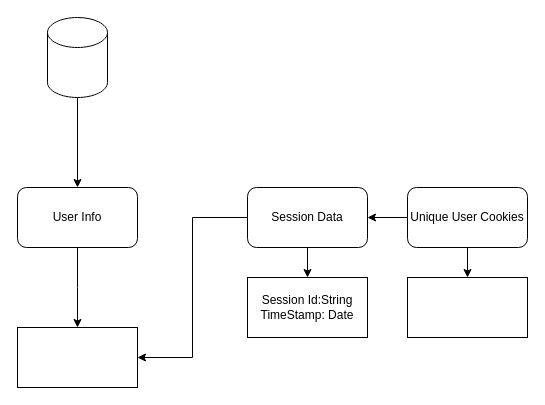
Image size: 545x405. Some labels were removed from this diagram. The shapes that lost their labels are listed below. From the top down, each one's centre as x and y in pixels, then its label:
At [467,307]: "Unique User Cookie: String Exp Date: Date".
At [77,357]: "User name: String Password:string Email:string".
